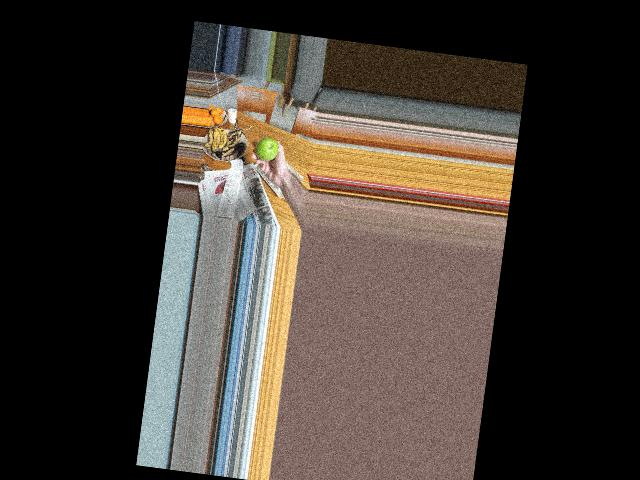apple: (254, 135, 280, 163)
